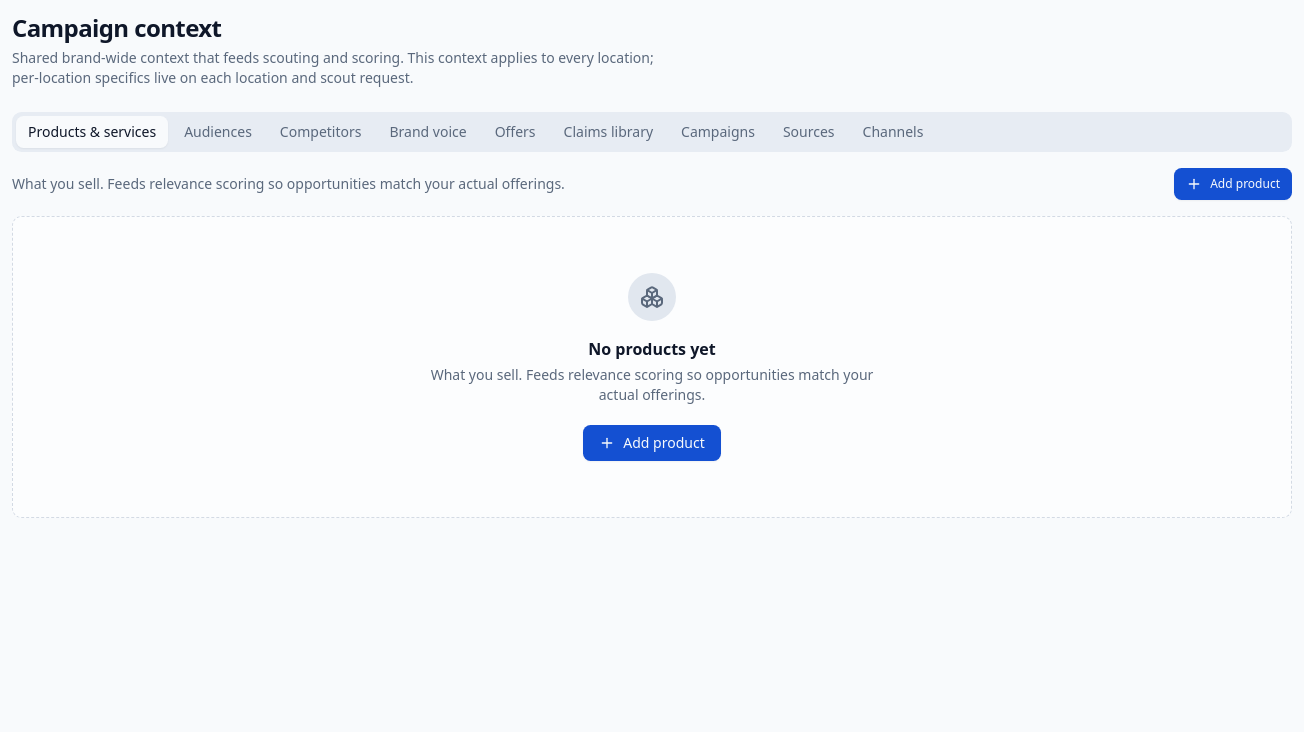
Test: chrome copy is roadmap-free and promises nothing unbuilt (P6-UI-010) › campaign-context blurbs claim no use the backend does not make
# Liveness: the tab strip actually rendered before anything is clicked.
Click the tab "Brand voice": (428,132) [378,116,479,148]
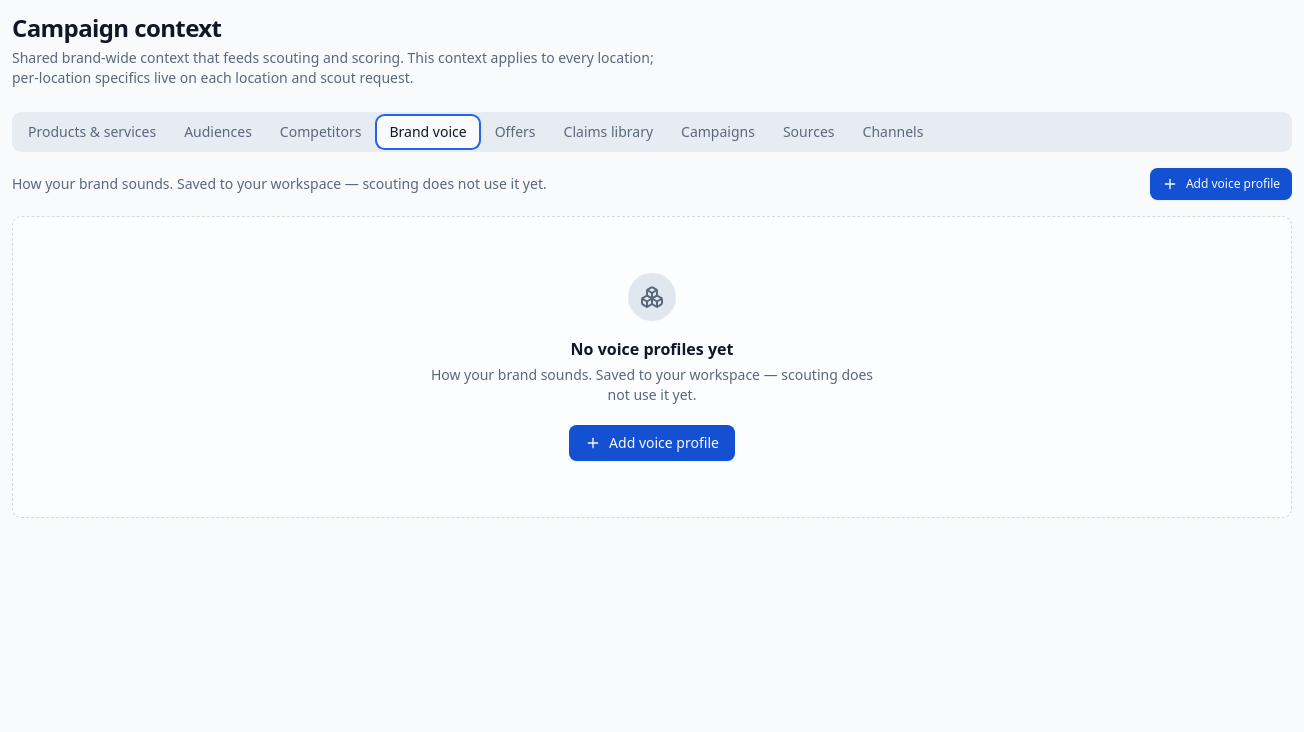
expect the text "How your brand sounds." is shown: met, box [12,174,547,193]
Click the tab "Channels": (893,132) [850,116,935,148]
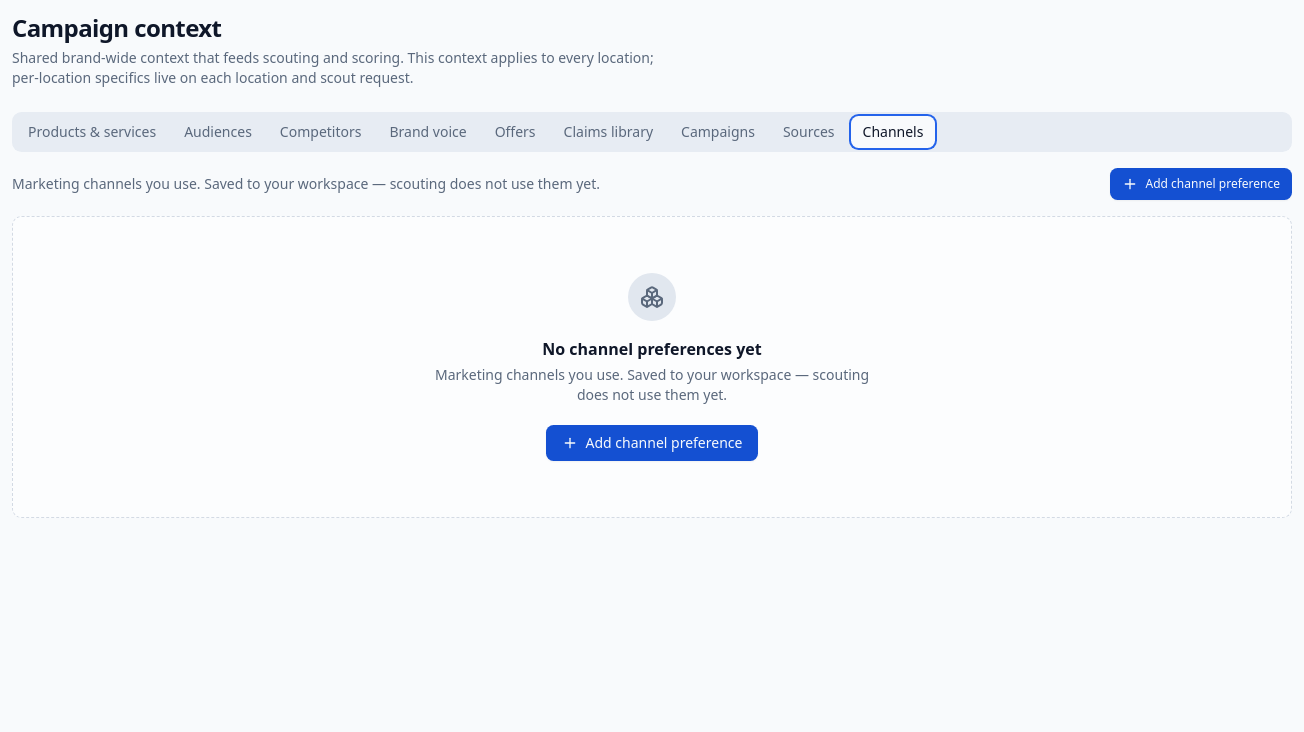
expect the text "Marketing channels you use." is shown: met, box [12,174,600,193]
